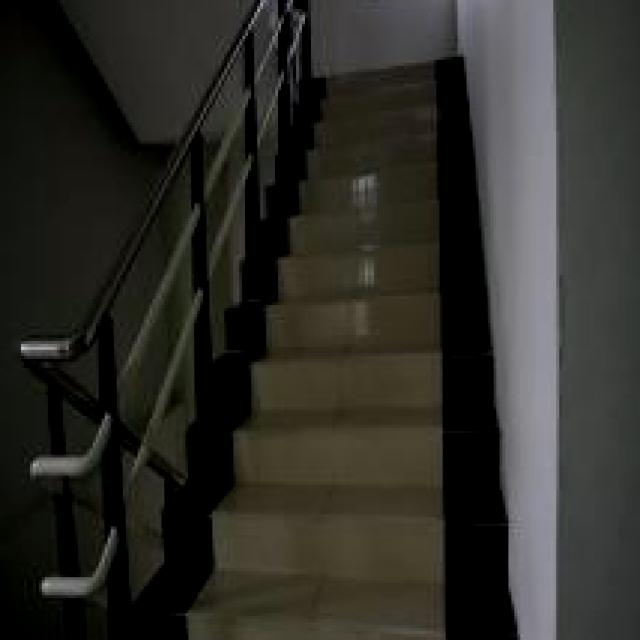upstair: (285, 61, 524, 640)
